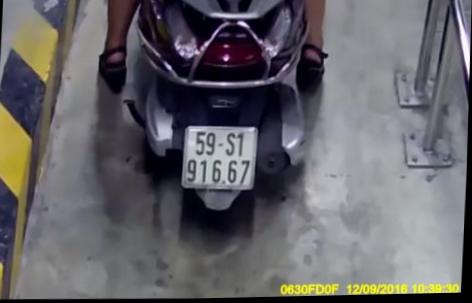LP: (182, 122, 257, 191)
